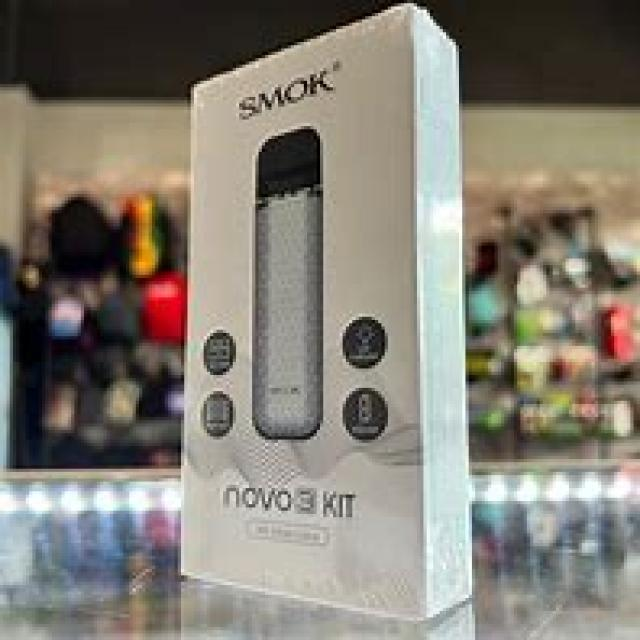Vapes: (251, 122, 330, 446)
